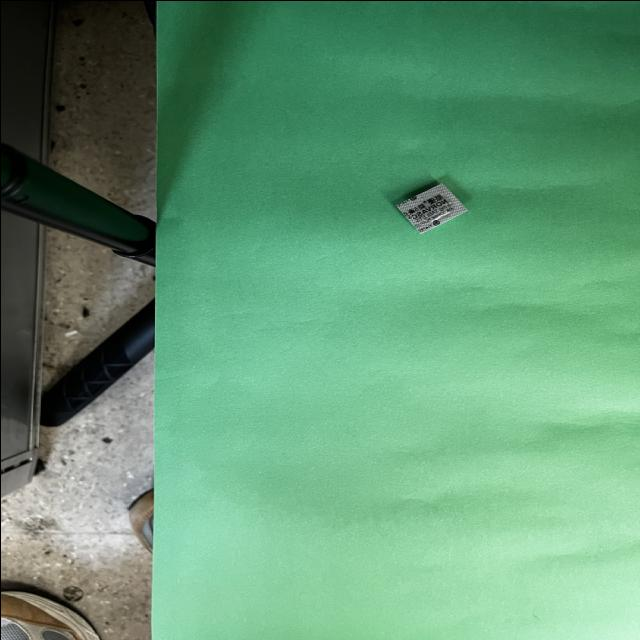Other Objects: (395, 182, 466, 232)
